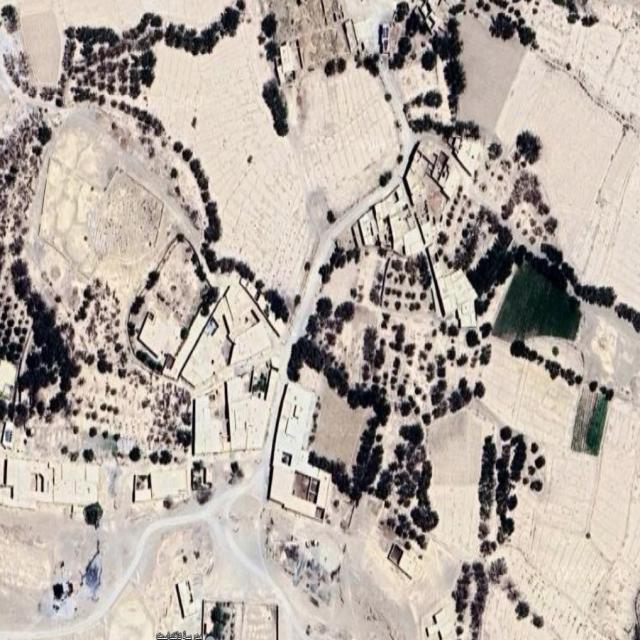Countryside roofs: (49, 448, 113, 531), (177, 289, 232, 383), (270, 452, 331, 536), (409, 132, 468, 218), (222, 370, 266, 460), (3, 448, 59, 512), (274, 372, 314, 458), (430, 250, 476, 323), (187, 389, 231, 458), (379, 185, 420, 258), (232, 300, 268, 367), (138, 293, 166, 366), (170, 569, 205, 625), (269, 34, 302, 88), (148, 472, 192, 512), (355, 205, 382, 255)
